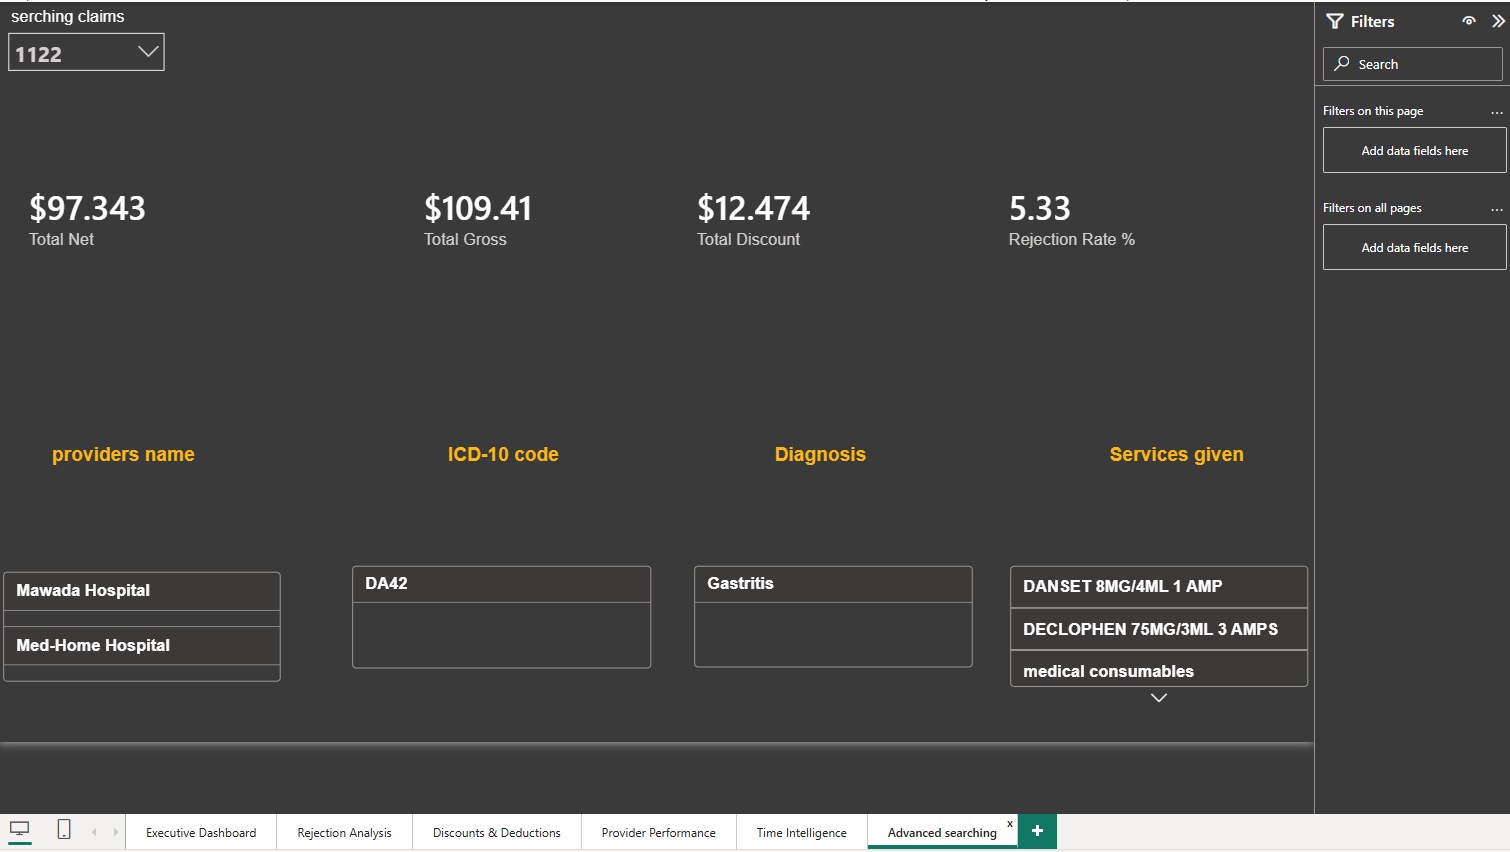

This screenshot's page, from the dashboard's own definition file:
{"tool":"powerbi","page":{"name":"Advanced searching","canvas":[1280,720],"ordinal":5},"visuals":[{"type":"slicer","fields":{"Values":["claims.Claim Form Number"]},"box":[0,0,172.2,131.3],"z":0},{"type":"cardVisual","fields":{"Data":["claims.Rejection Rate %"]},"box":[953.2,129.4,199.4,156.6],"z":1000},{"type":"cardVisual","fields":{"Data":["claims.Total Discount"]},"box":[649.7,129.4,300.5,156.6],"z":2000},{"type":"cardVisual","fields":{"Data":["claims.Total Gross"]},"box":[384.2,129.4,201.3,156.6],"z":3000},{"type":"cardVisual","fields":{"Data":["claims.Total Net"]},"box":[0,129.4,300.5,156.6],"z":4000},{"type":"cardVisual","fields":{"Rows":["claims.ICD Description"]},"box":[672.1,523.3,281.1,149.8],"z":5000},{"type":"cardVisual","fields":{"Rows":["claims.Provider Name"]},"box":[0,529.1,280,157],"z":6000},{"type":"cardVisual","fields":{"Rows":["claims.ICD Code"]},"box":[339.5,523.3,301,150],"z":7000},{"type":"cardVisual","fields":{"Rows":["claims.Item Description"]},"box":[979.5,523.3,300.5,168.3],"z":8000},{"type":"textbox","box":[0,424.1,244.1,59.3],"z":8001},{"type":"textbox","box":[384.2,424.1,215,66.1],"z":8002},{"type":"textbox","box":[672.1,424.1,255.8,66.1],"z":8003},{"type":"textbox","box":[1013.5,424.1,266.5,59.3],"z":8004}]}

Visuals, with their boxes on the page's 1280x720 design canvas (x1, y1, x2, y2). These are canvas units, not pixel positions in the 1510x852 screenshot, which may show the page scaled, cropped or inside an application window:
slicer - claims.Claim Form Number: (x1=0, y1=0, x2=172, y2=131)
cardVisual - claims.Rejection Rate %: (x1=953, y1=129, x2=1153, y2=286)
cardVisual - claims.Total Discount: (x1=650, y1=129, x2=950, y2=286)
cardVisual - claims.Total Gross: (x1=384, y1=129, x2=586, y2=286)
cardVisual - claims.Total Net: (x1=0, y1=129, x2=300, y2=286)
cardVisual - claims.ICD Description: (x1=672, y1=523, x2=953, y2=673)
cardVisual - claims.Provider Name: (x1=0, y1=529, x2=280, y2=686)
cardVisual - claims.ICD Code: (x1=340, y1=523, x2=640, y2=673)
cardVisual - claims.Item Description: (x1=980, y1=523, x2=1280, y2=692)
textbox: (x1=0, y1=424, x2=244, y2=483)
textbox: (x1=384, y1=424, x2=599, y2=490)
textbox: (x1=672, y1=424, x2=928, y2=490)
textbox: (x1=1014, y1=424, x2=1280, y2=483)
